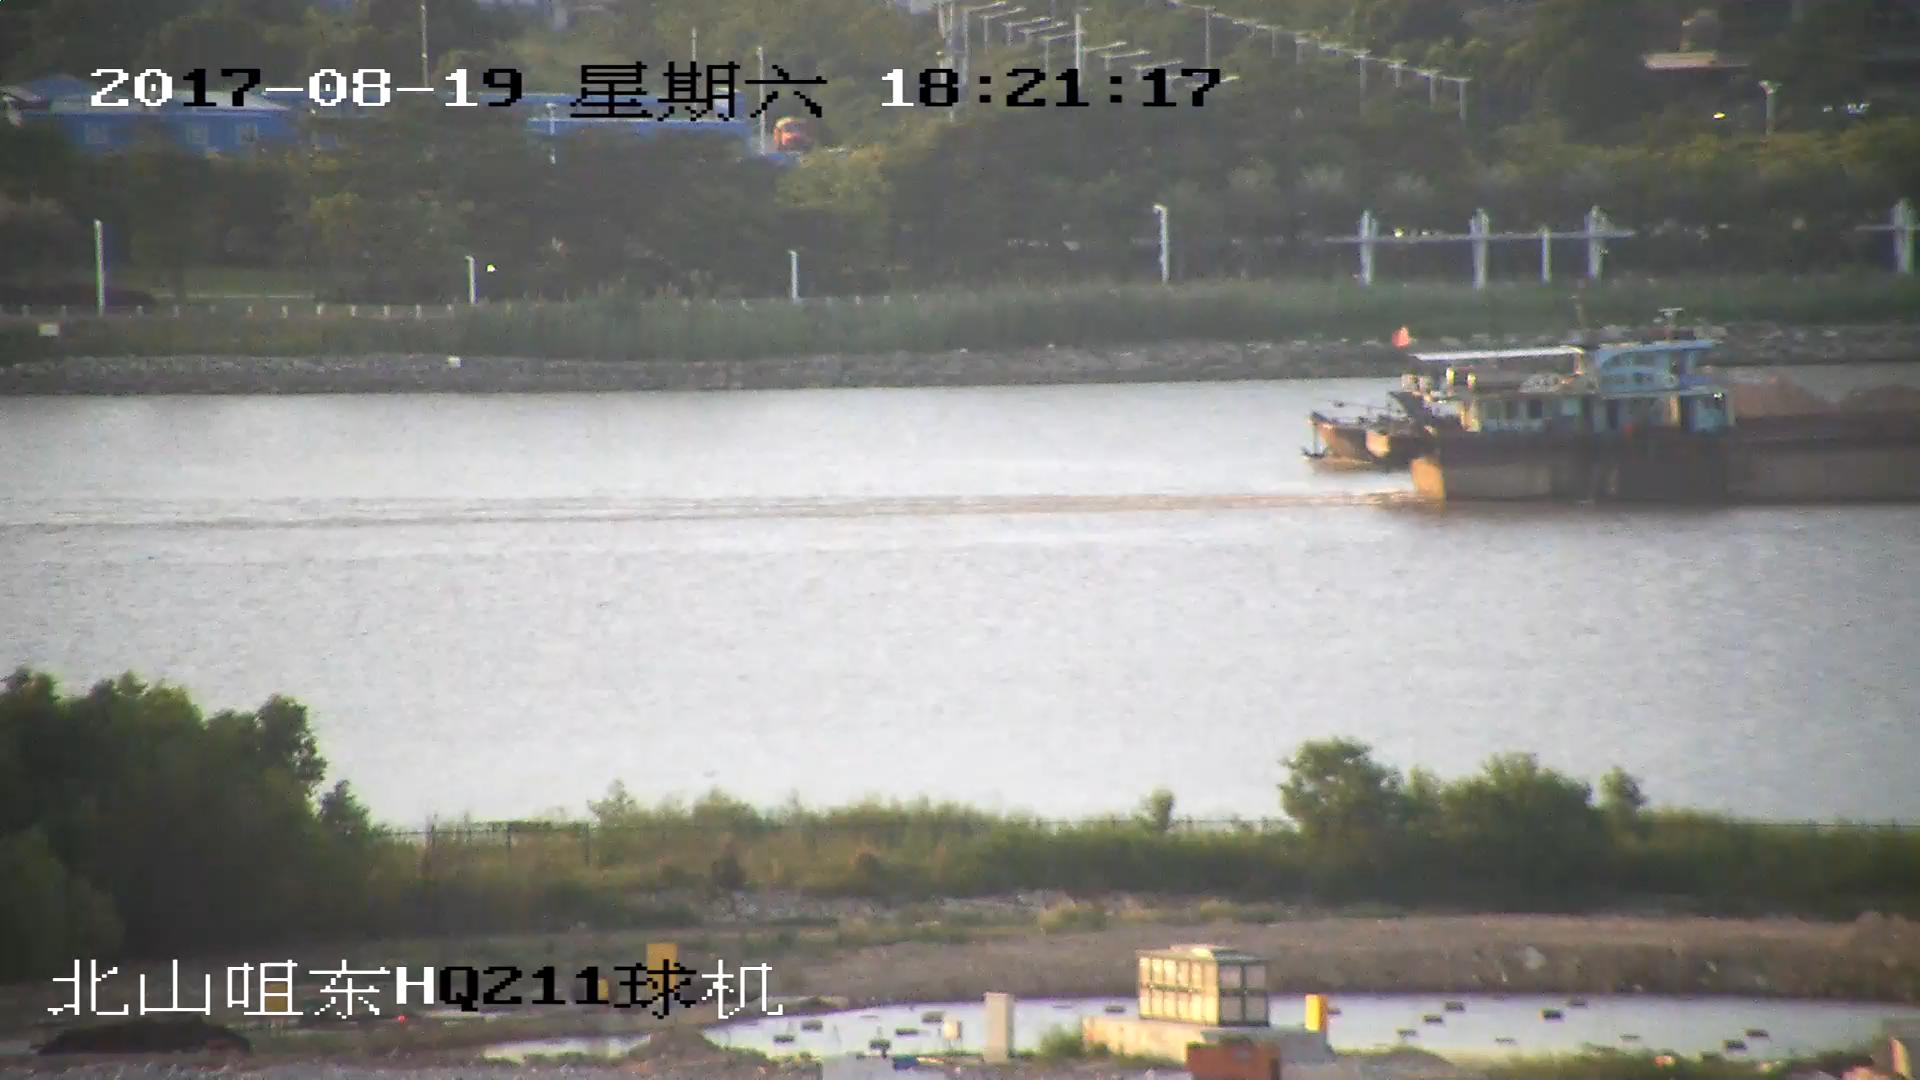bulk cargo carrier: (1388, 354, 1920, 504)
ore carrier: (1308, 384, 1920, 422)
